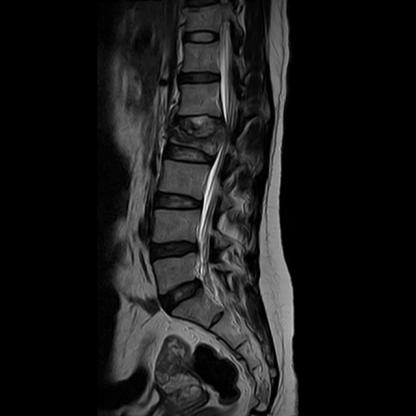Annular Tearrotation: (157, 281, 211, 310)
Fracturerotation: (158, 110, 233, 165)
